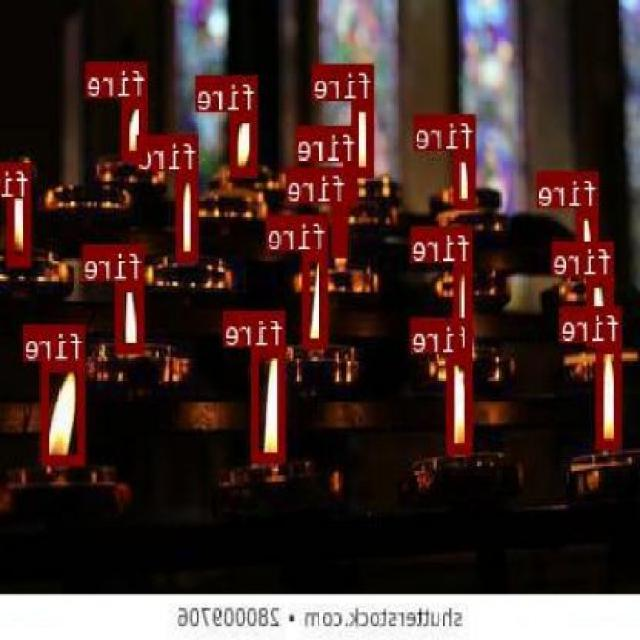fire: (43, 361, 86, 464), (253, 344, 287, 460), (448, 352, 474, 450), (598, 342, 622, 446), (8, 162, 32, 266), (304, 251, 328, 347), (118, 279, 146, 352), (588, 276, 616, 344), (178, 170, 198, 259), (354, 100, 376, 174), (232, 112, 258, 174), (456, 262, 473, 356), (124, 98, 150, 158), (578, 207, 600, 276), (456, 149, 476, 208), (334, 202, 350, 255), (344, 160, 358, 205)
